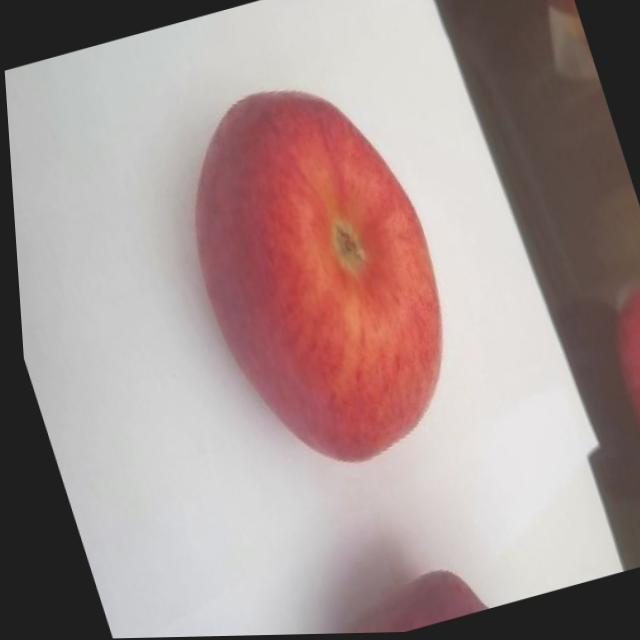Apple: (147, 62, 483, 491), (589, 280, 640, 543)
